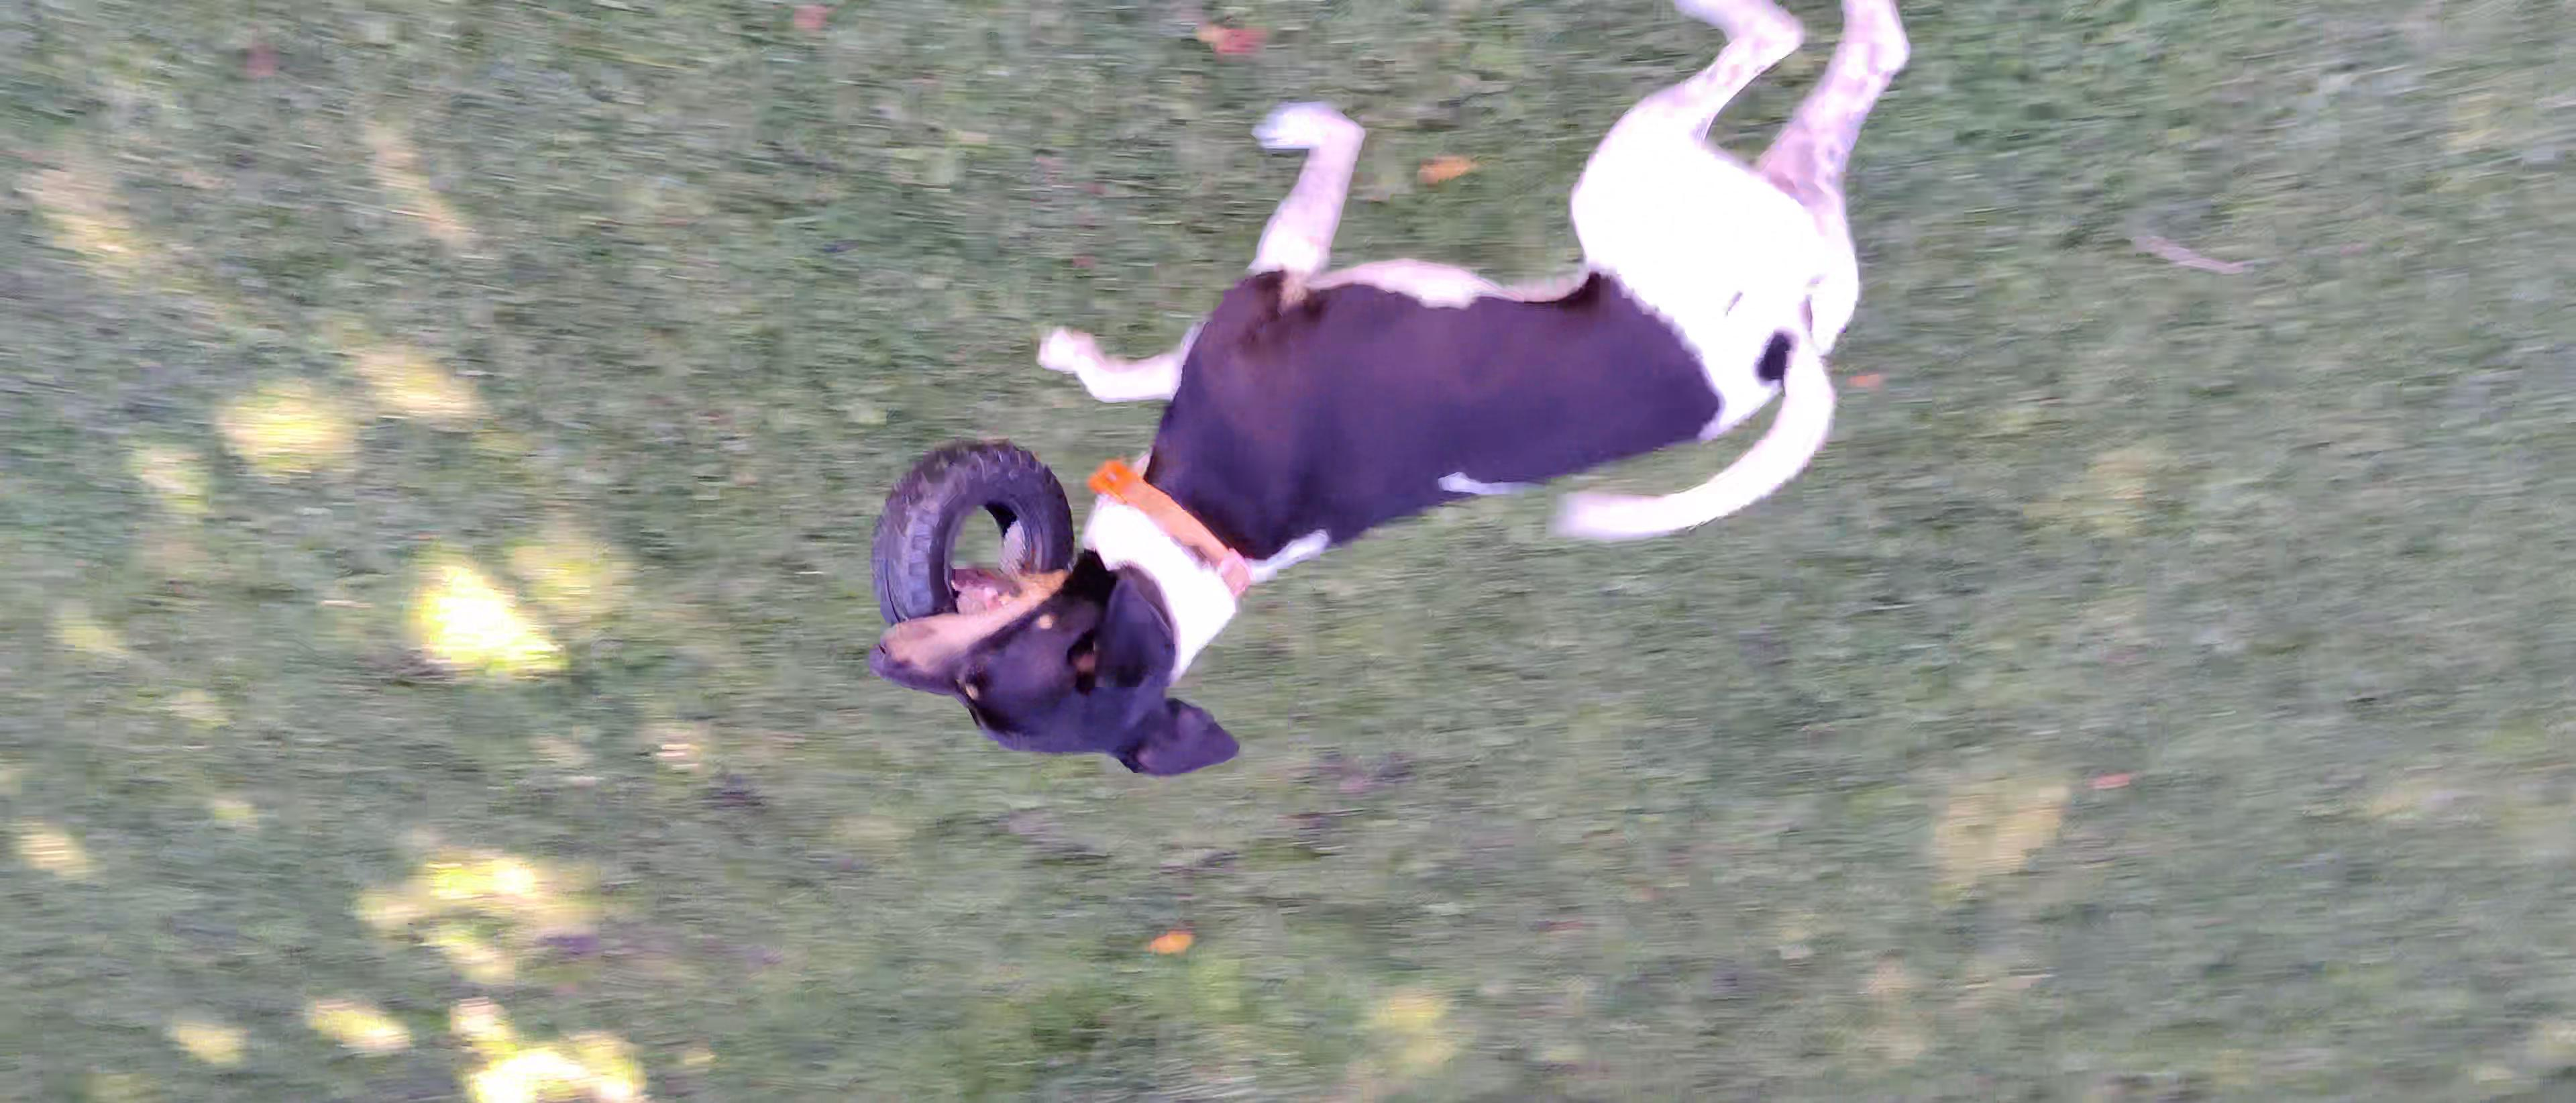Dog: (844, 0, 1940, 782)
